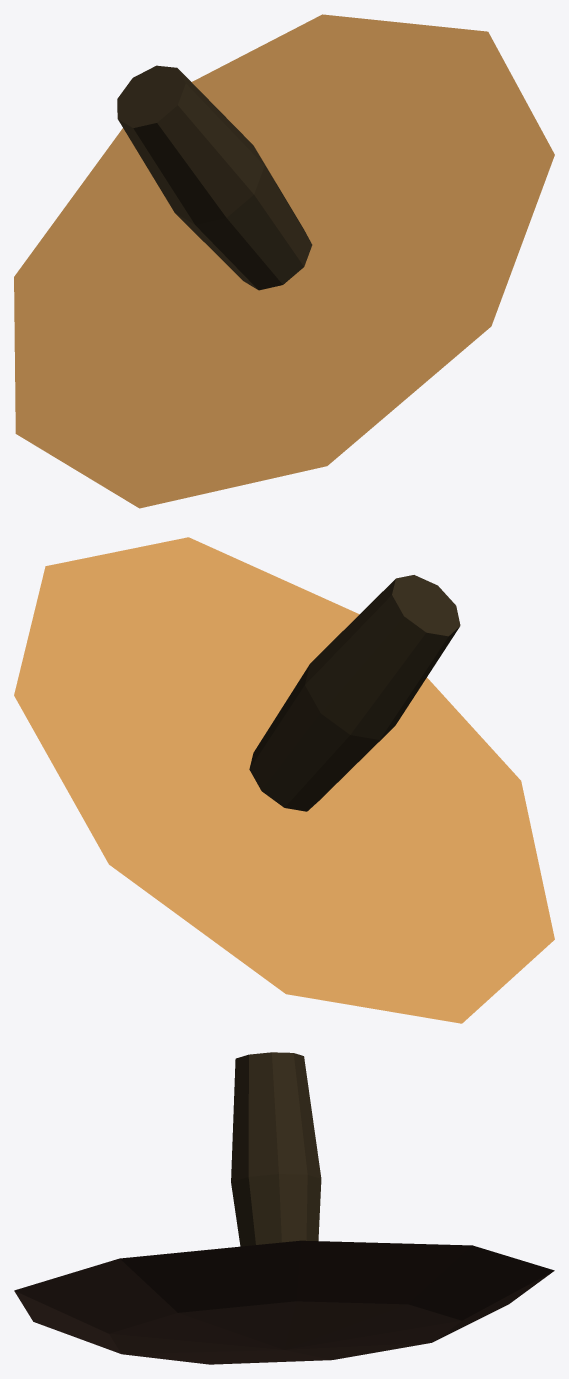
The picture shows the model from 3 angles, top to bottom: view 1: azimuth 30°, elevation 25°; view 2: azimuth 150°, elevation 25°; view 3: azimuth 270°, elevation 25°; orthographic projection. The views are drawn at different scales.
Parts seen in each view (by area): view 1: Sphere030; view 2: Sphere030; view 3: Sphere030.
Boxes of the visible parts, x1,y1,x2,y2 form: Sphere030: (14, 14, 554, 508); Sphere030: (14, 537, 554, 1023); Sphere030: (14, 1052, 554, 1364).
Size of the model in its own units: 0.283 by 0.2294 by 0.3443.
